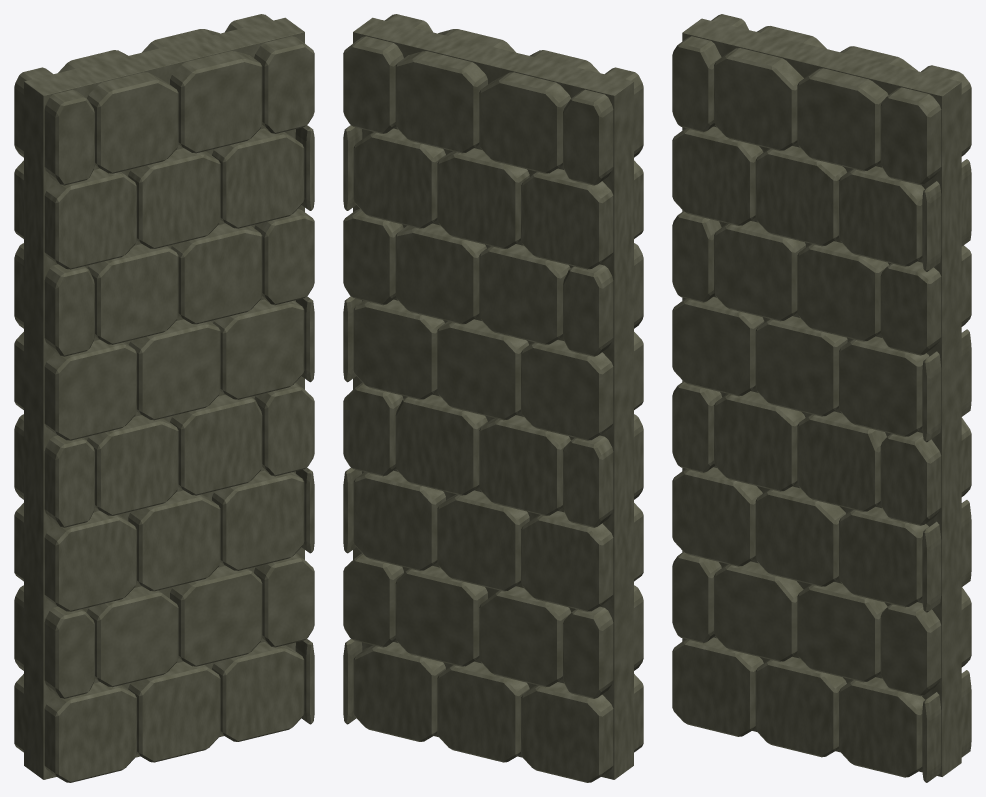
File: wall_fieldstone_a.glb
3 views of the same model, side by side, from view 1: azimuth 30°, elevation 25°; view 2: azimuth 150°, elevation 25°; view 3: azimuth 330°, elevation 25° (orthographic).
Parts seen in each view (by area): view 1: wall_fieldstone_a; view 2: wall_fieldstone_a; view 3: wall_fieldstone_a.
Part boxes in pixels (x1,y1,x2,y2): wall_fieldstone_a: (14, 14, 314, 782); wall_fieldstone_a: (343, 14, 643, 782); wall_fieldstone_a: (672, 14, 971, 782).
Size of the model in its own units: 1 by 2.5 by 0.29.
1 material, 1 textured.
